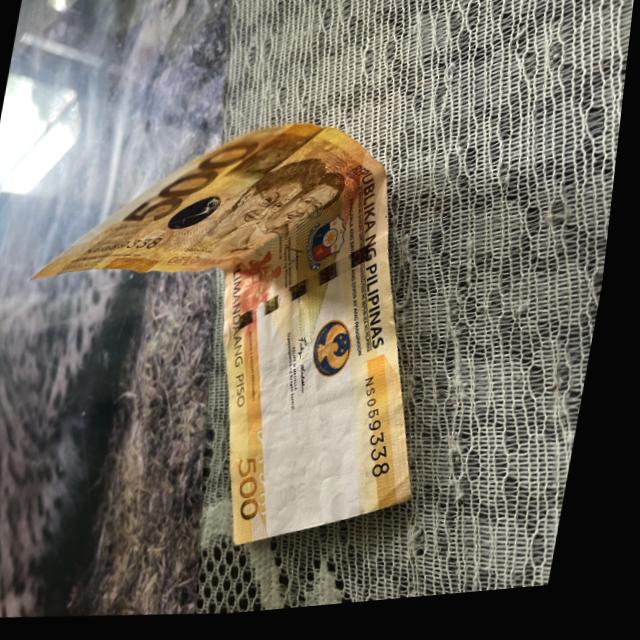concealed_value: (229, 125, 331, 187)
optically_variable_device: (161, 189, 241, 244)
security_thread: (231, 240, 394, 342)
see_through_mark: (261, 422, 286, 527)
serial_number: (370, 374, 408, 492), (89, 239, 173, 258)
value: (122, 143, 268, 233)
value_watermark: (287, 482, 322, 517)
watermark: (267, 369, 388, 511)
